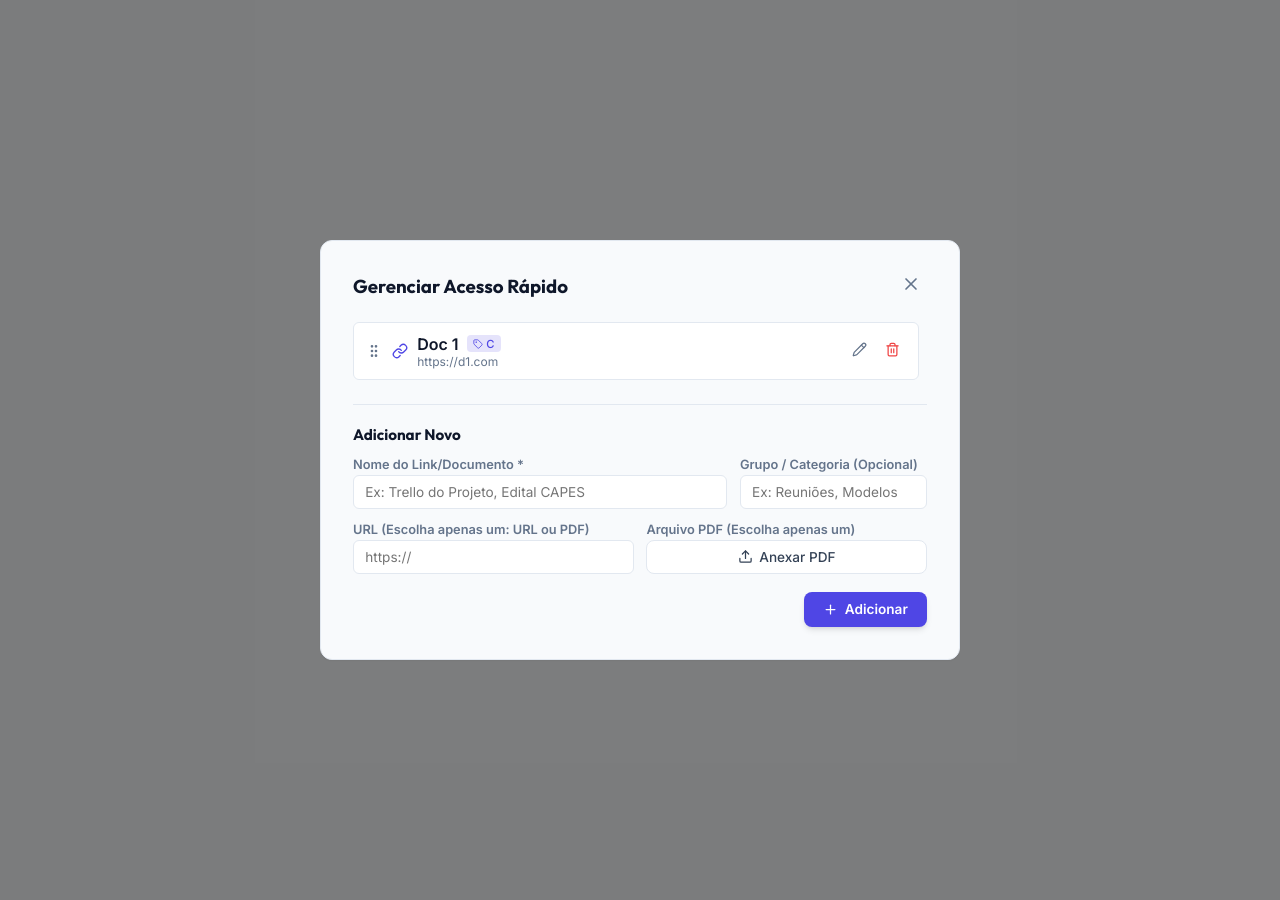
Test: ManageQuickAccessModal editing and deleting › cancels editing back to an empty "add" form
The width and height of the screenshot is (1280, 900).
Click the button titled "Editar item" at (860, 351), box [846,336,873,366]
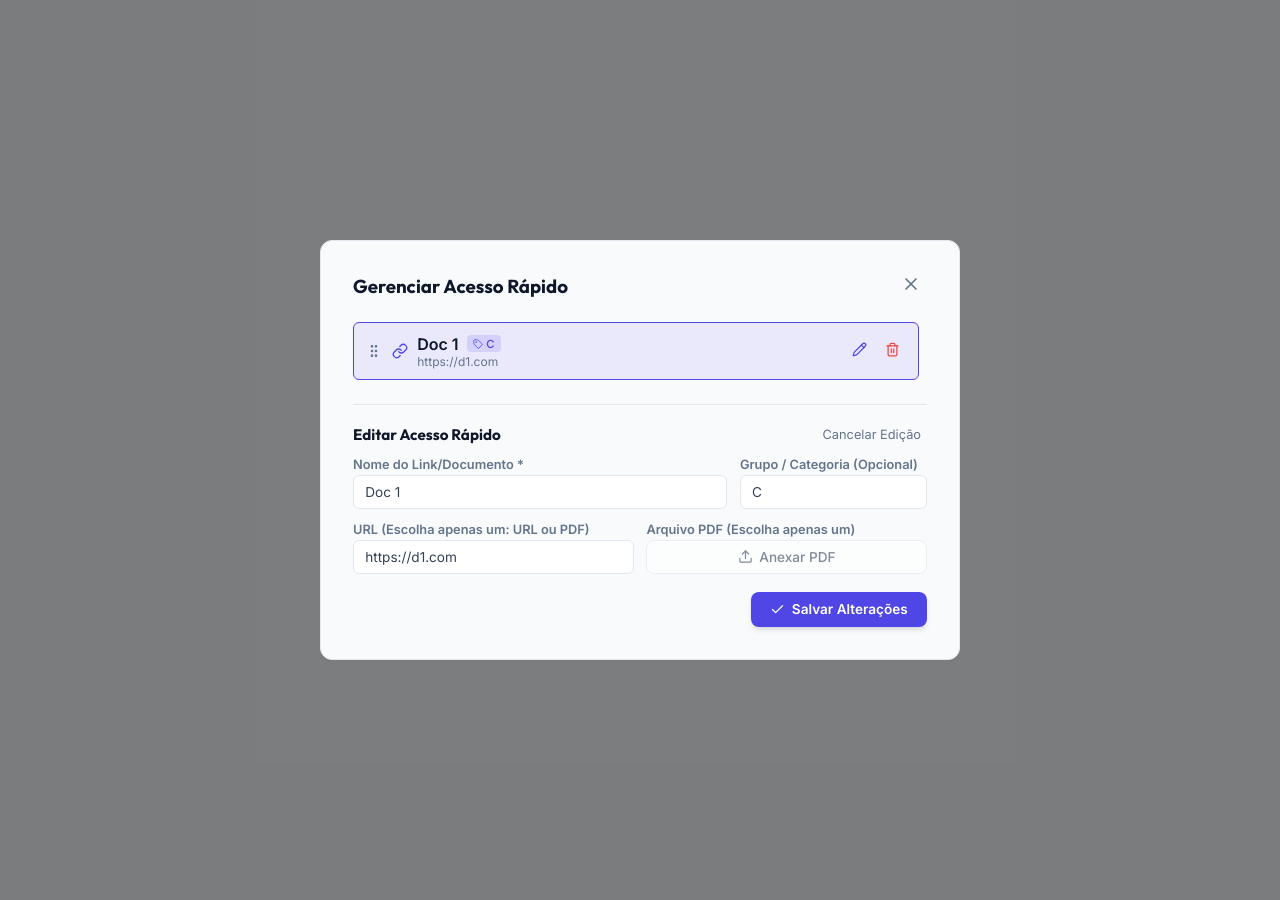
Now the field with placeholder "Ex: Trello do Projeto, Edital CAPES" below "Nome do Link/Documento *" holds "Doc 1", box [353,475,727,509]
Click the button "Cancelar Edição" at (872, 434), box [816,426,927,443]
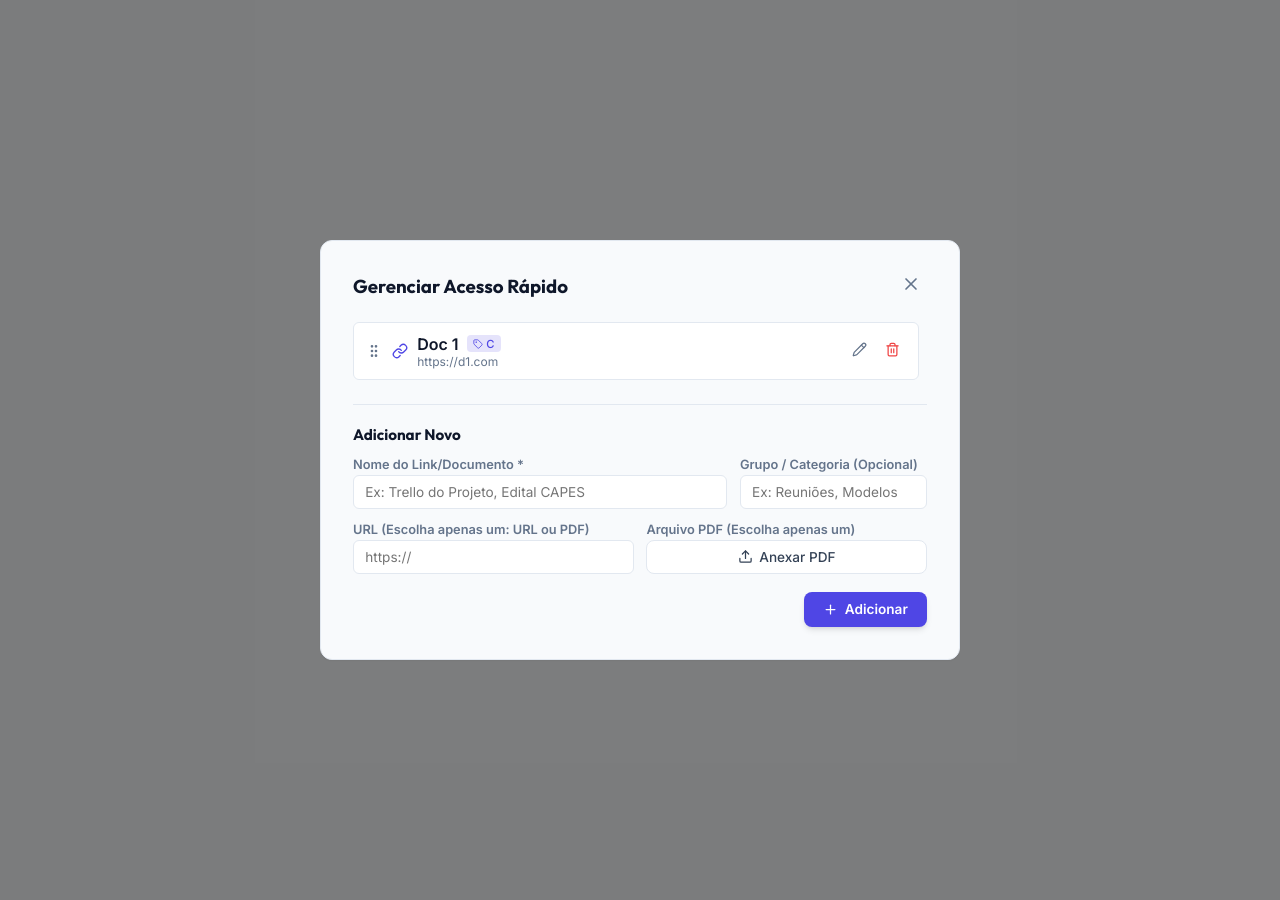
Now the heading "Adicionar Novo" is shown, box [353,425,461,444]
Now the field with placeholder "Ex: Trello do Projeto, Edital CAPES" is empty, box [353,475,727,509]
Now the field with placeholder "https://" is empty, box [353,540,634,574]
